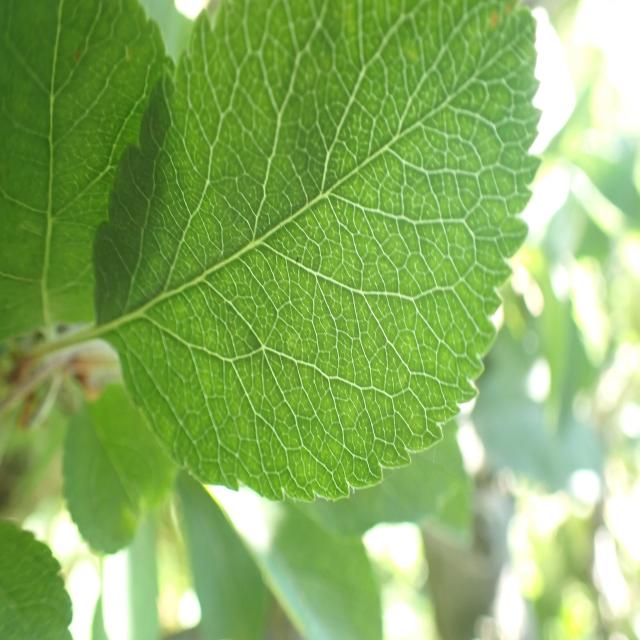healthy: (93, 2, 544, 504), (1, 1, 174, 346), (61, 382, 178, 554), (0, 520, 74, 640)
